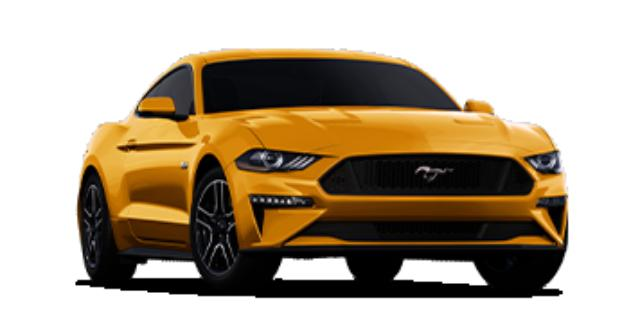ford-mustang: (76, 49, 570, 294)
